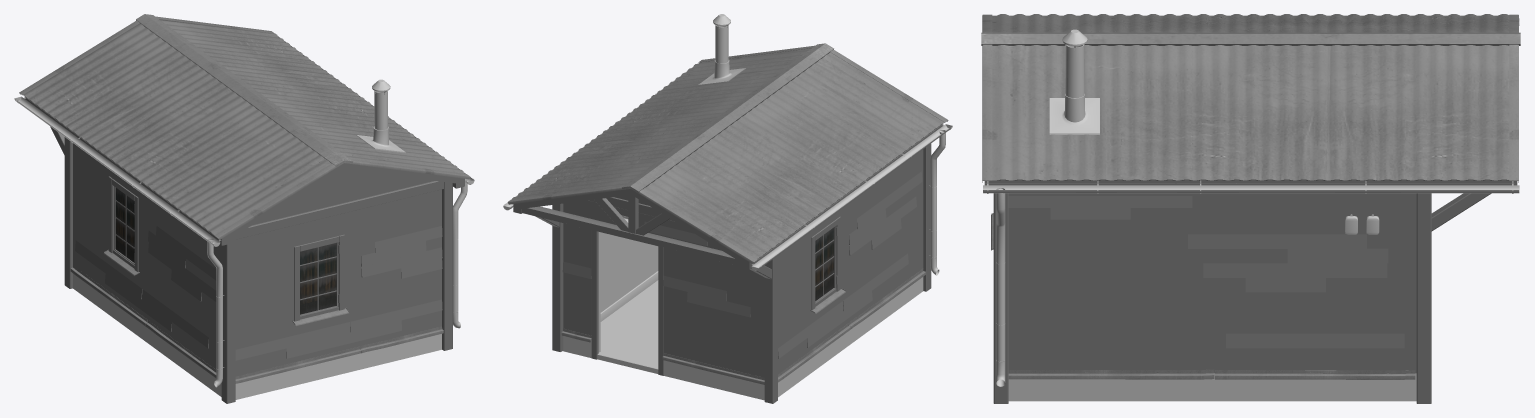
Rendered from Hut3.fbx.
The picture shows the model from 3 angles, left to right: view 1: azimuth 30°, elevation 25°; view 2: azimuth 150°, elevation 25°; view 3: azimuth 270°, elevation 25°; orthographic projection. The views are drawn at different scales.
Visible parts, largest first — view 1: SM_Hut3_HutRoof_01_LOD0, SM_Hut3_HutWall_03_LOD0, SM_Hut3_HutWall_04_LOD0, SM_Hut3_HutWall_01_LOD0; view 2: SM_Hut3_HutRoof_01_LOD0, SM_Hut3_HutWall_01_LOD0, SM_Hut3_HutWall_04_LOD0, SM_Hut3_HutFloor_01_LOD0, SM_Hut3_HutWall_02_LOD0, SM_Hut3_HutWall_03_LOD0; view 3: SM_Hut3_HutRoof_01_LOD0, SM_Hut3_HutWall_02_LOD0, SM_Hut3_HutWall_01_LOD0, SM_Hut3_HutWall_03_LOD0.
Part boxes in pixels (x1,y1,x2,y2): SM_Hut3_HutRoof_01_LOD0: (14,14,474,387); SM_Hut3_HutWall_03_LOD0: (221,169,452,403); SM_Hut3_HutWall_04_LOD0: (70,143,221,396); SM_Hut3_HutWall_01_LOD0: (64,137,72,288); SM_Hut3_HutRoof_01_LOD0: (503,14,952,279); SM_Hut3_HutWall_01_LOD0: (552,195,777,403); SM_Hut3_HutWall_04_LOD0: (778,149,925,397); SM_Hut3_HutFloor_01_LOD0: (600,271,658,365); SM_Hut3_HutWall_02_LOD0: (600,232,658,312); SM_Hut3_HutWall_03_LOD0: (923,143,931,291); SM_Hut3_HutRoof_01_LOD0: (981,14,1520,386); SM_Hut3_HutWall_02_LOD0: (1008,193,1416,401); SM_Hut3_HutWall_01_LOD0: (1416,193,1431,403); SM_Hut3_HutWall_03_LOD0: (991,193,1008,403).
Size of what is drawn, in the model's own units: 483 by 452 by 637.
